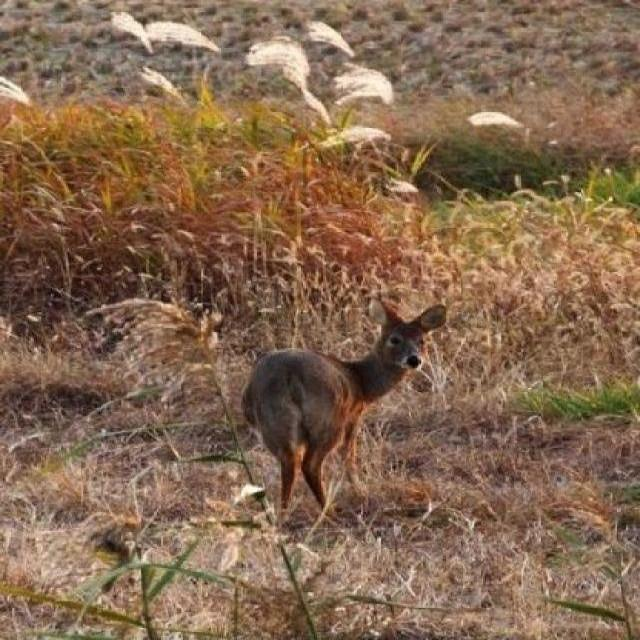deer: (239, 295, 453, 513)
